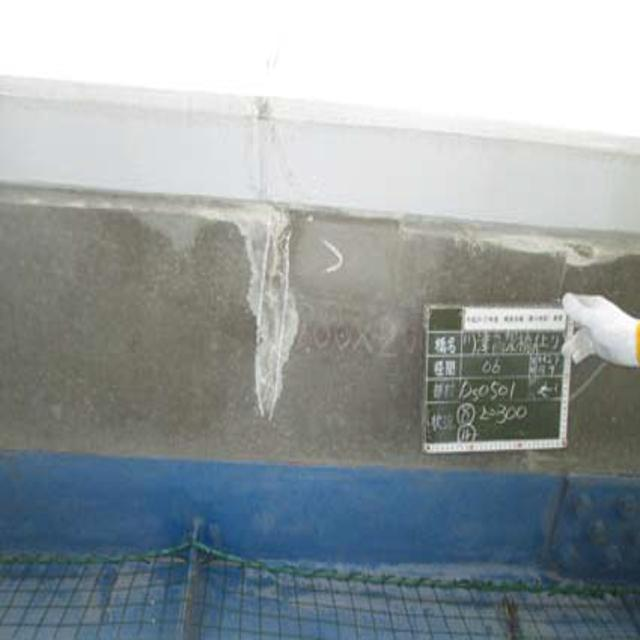freelime: (220, 148, 306, 436)
